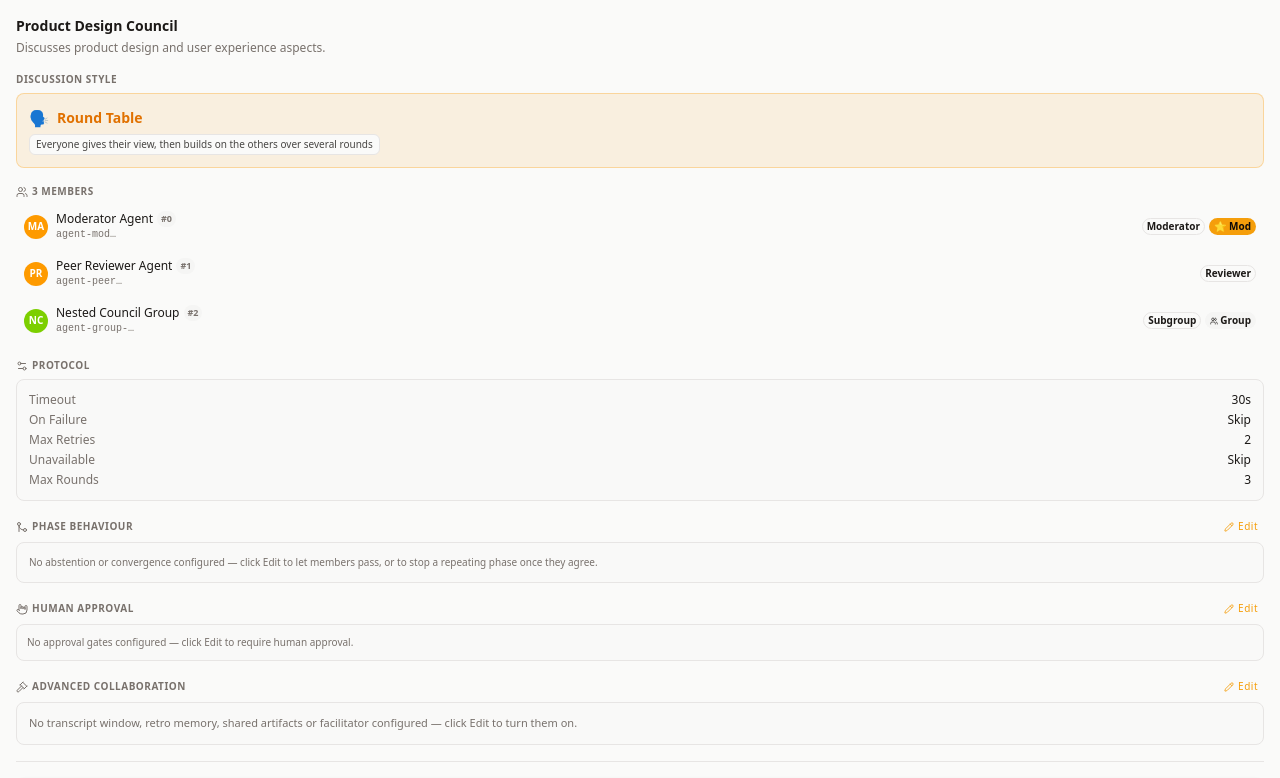
GroupConfigPanel › group collaboration parity › closes the approval editor when the phase editor is opened
Click the button with test id "group-hitl-edit" at (1241, 608), box x1=1218 y1=599 x2=1264 y2=618
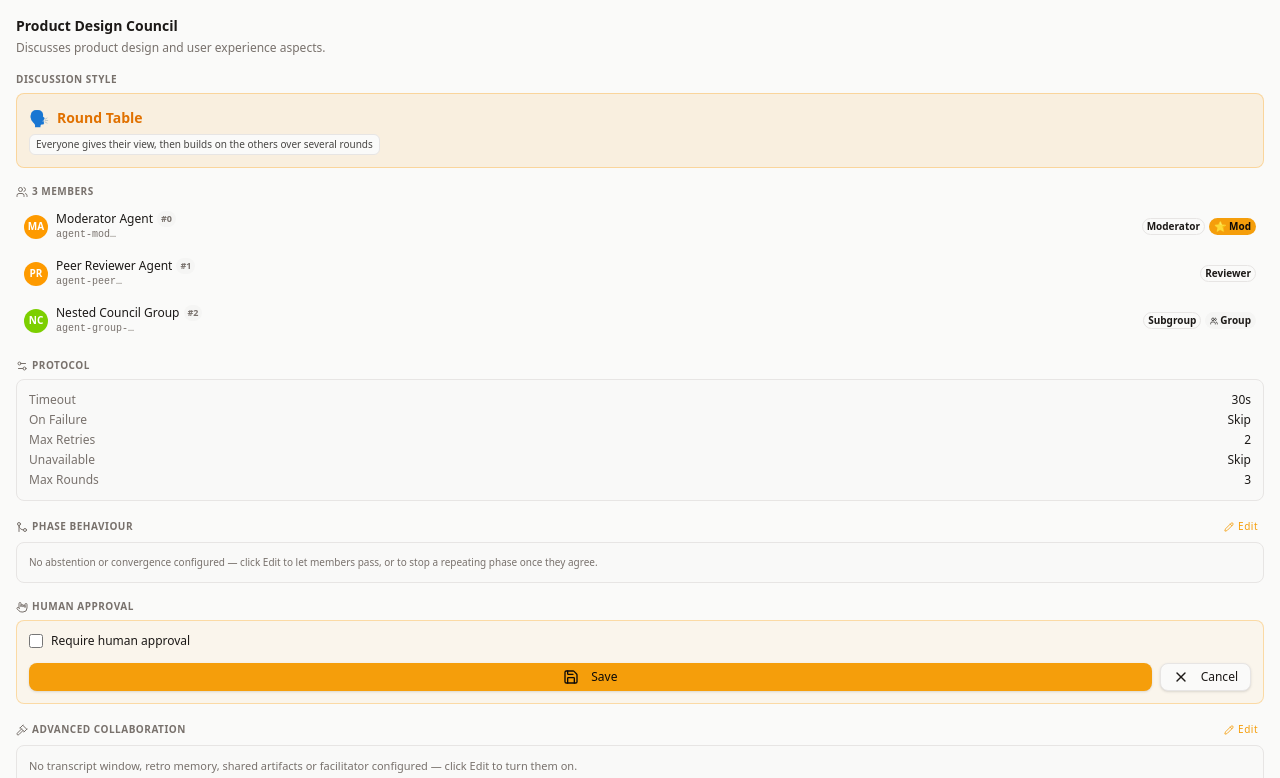
Result: the element with test id "group-hitl-editor" is shown at x1=16 y1=620 x2=1264 y2=704
Click the button with test id "group-phase-edit" at (1241, 526), box x1=1218 y1=517 x2=1264 y2=536
(page scrolled)
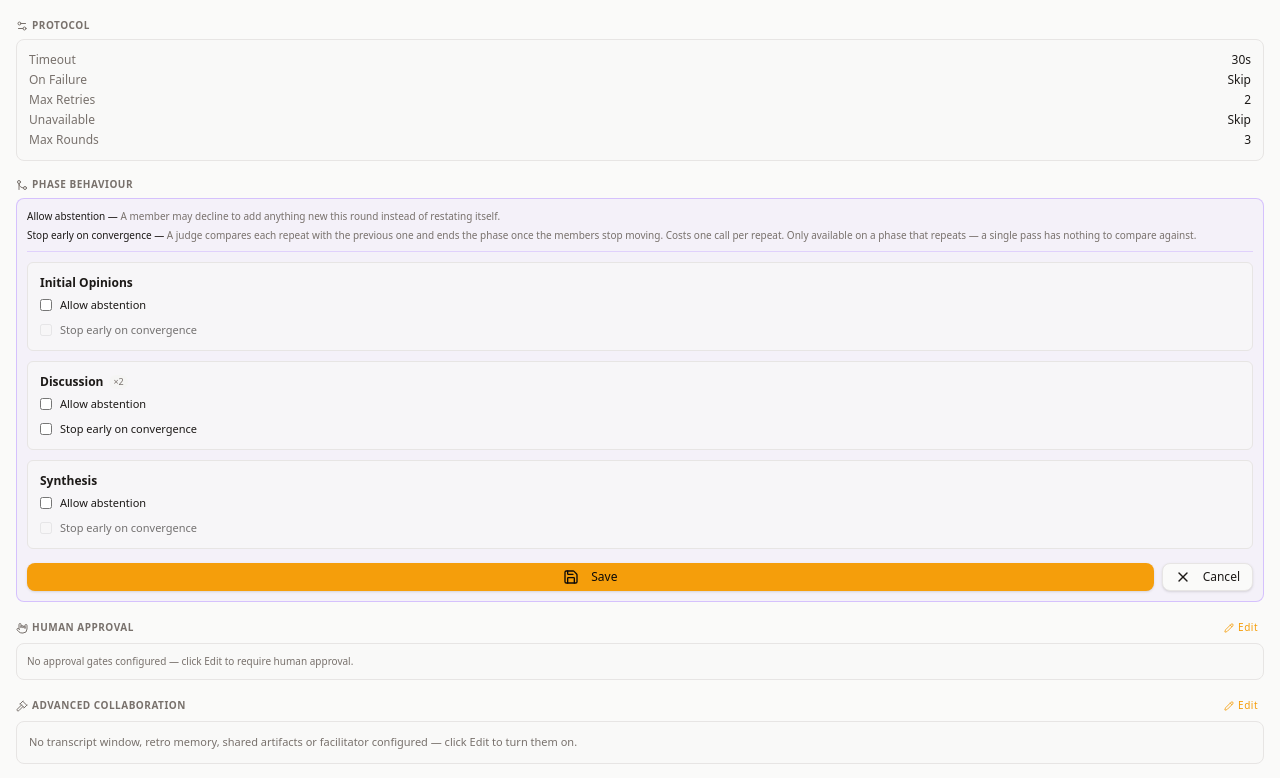
Result: the element with test id "group-phase-editor" is shown at x1=16 y1=198 x2=1264 y2=602
Result: the element with test id "group-hitl-editor" is gone
